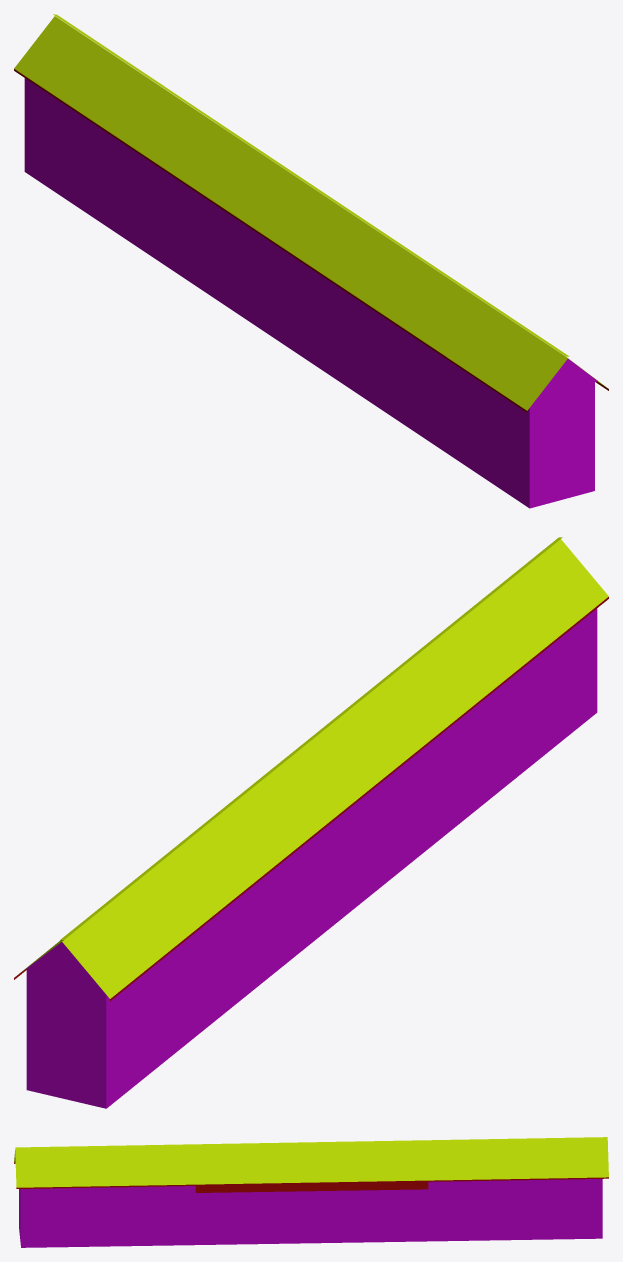
Rendered from ces_81.glb.
The picture shows the model from 3 angles, top to bottom: view 1: azimuth 30°, elevation 25°; view 2: azimuth 150°, elevation 25°; view 3: azimuth 270°, elevation 25°; orthographic projection. The views are drawn at different scales.
Visible parts, largest first — view 1: ces_81; view 2: ces_81; view 3: ces_81.
Boxes of the visible parts, x1=… form: ces_81: x1=14, y1=14, x2=608, y2=508; ces_81: x1=14, y1=537, x2=608, y2=1108; ces_81: x1=14, y1=1137, x2=608, y2=1247.
Bounding box in the file's own units: 7.04 × 8.33 × 49.72.
